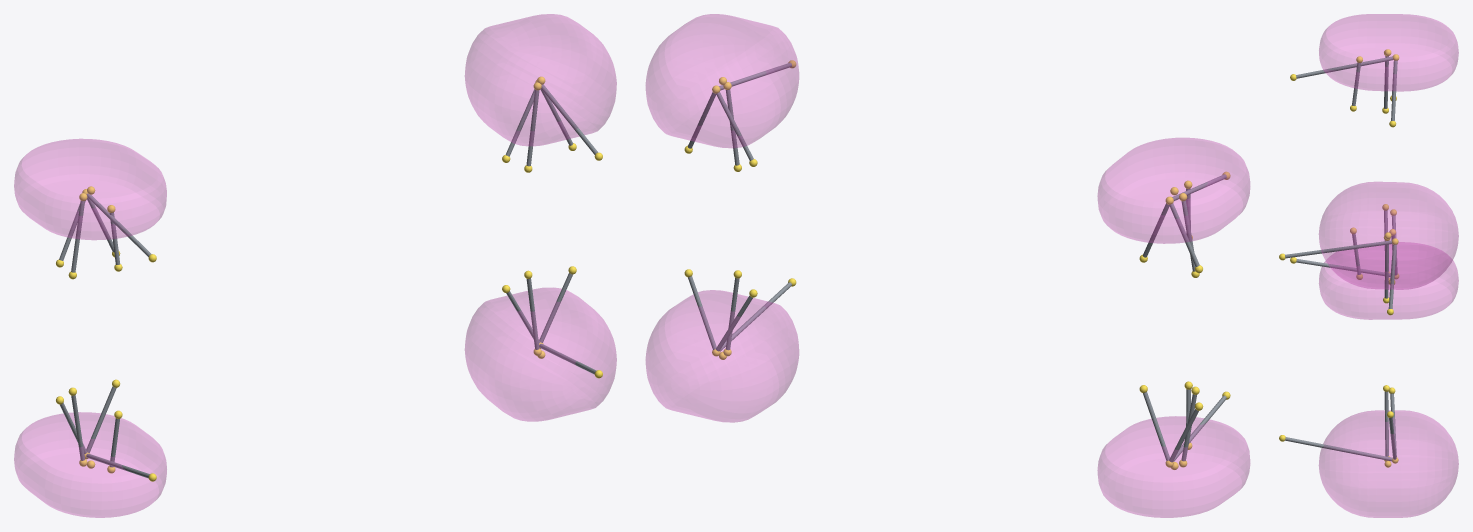
The model's file is modern_car_v2_crossover_suspension_kinematics.glb.
The picture shows the model from 3 angles, left to right: view 1: azimuth 30°, elevation 25°; view 2: azimuth 150°, elevation 25°; view 3: azimuth 270°, elevation 25°; orthographic projection. The views are drawn at different scales.
Visible parts, largest first — view 1: tyre_sweep_front_right, tyre_sweep_front_left, tyre_sweep_rear_right, tyre_sweep_rear_left; view 2: tyre_sweep_front_right, tyre_sweep_front_left, tyre_sweep_rear_right, tyre_sweep_rear_left; view 3: tyre_sweep_front_right, tyre_sweep_front_left, tyre_sweep_rear_right, tyre_sweep_rear_left, link_front_left_strut_top_ball_joint, link_front_right_strut_top_ball_joint, link_rear_right_damper_top_lower_link_outer, link_rear_left_damper_top_lower_link_outer, link_front_right_lower_arm_front_inner_ball_joint, link_front_left_tie_rod_inner_tie_rod_outer, link_rear_right_lower_link_front_inner_lower_link_outer, link_front_right_tie_rod_inner_tie_rod_outer.
Part boxes in pixels (box(x1,y1,x2,y2)): tyre_sweep_front_right: box(465, 14, 616, 145); tyre_sweep_front_left: box(465, 287, 616, 421); tyre_sweep_rear_right: box(14, 139, 166, 239); tyre_sweep_rear_left: box(14, 412, 166, 517); tyre_sweep_front_right: box(645, 14, 798, 147); tyre_sweep_front_left: box(645, 290, 798, 422); tyre_sweep_rear_right: box(1097, 138, 1250, 243); tyre_sweep_rear_left: box(1097, 416, 1250, 517); tyre_sweep_front_right: box(1319, 182, 1458, 289); tyre_sweep_front_left: box(1319, 410, 1458, 517); tyre_sweep_rear_right: box(1319, 14, 1458, 91); tyre_sweep_rear_left: box(1319, 242, 1458, 319); link_front_left_strut_top_ball_joint: box(1285, 437, 1392, 461); link_front_right_strut_top_ball_joint: box(1285, 240, 1392, 258); link_rear_right_damper_top_lower_link_outer: box(1296, 56, 1393, 78); link_rear_left_damper_top_lower_link_outer: box(1296, 259, 1390, 276); link_front_right_lower_arm_front_inner_ball_joint: box(1388, 244, 1396, 308); link_front_left_tie_rod_inner_tie_rod_outer: box(1384, 391, 1388, 456); link_rear_right_lower_link_front_inner_lower_link_outer: box(1391, 60, 1397, 120); link_front_right_tie_rod_inner_tie_rod_outer: box(1384, 240, 1388, 298).
Bounding box in the file's own units: 3.48 × 2.15 × 1.14.
